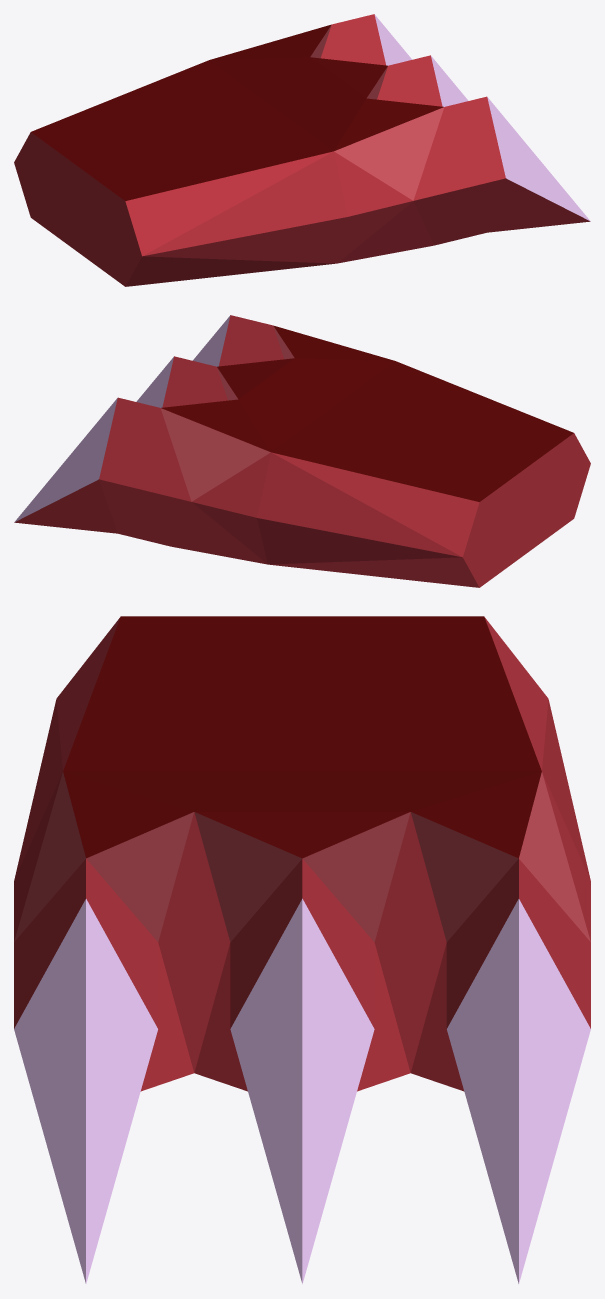
The model's file is imp_weapon.glb.
3 renders of one model, top to bottom at view 1: azimuth 30°, elevation 25°; view 2: azimuth 150°, elevation 25°; view 3: azimuth 270°, elevation 25°, orthographic. The views are drawn at different scales.
Visible parts, largest first — view 1: imp_weapon; view 2: imp_weapon; view 3: imp_weapon.
Part boxes in pixels (bbox=[...]): imp_weapon: bbox=[14, 14, 590, 286]; imp_weapon: bbox=[14, 315, 590, 587]; imp_weapon: bbox=[14, 616, 590, 1284].
Bounding box in the file's own units: 0.8892 × 0.28 × 0.5068.
1 material, 1 textured.
